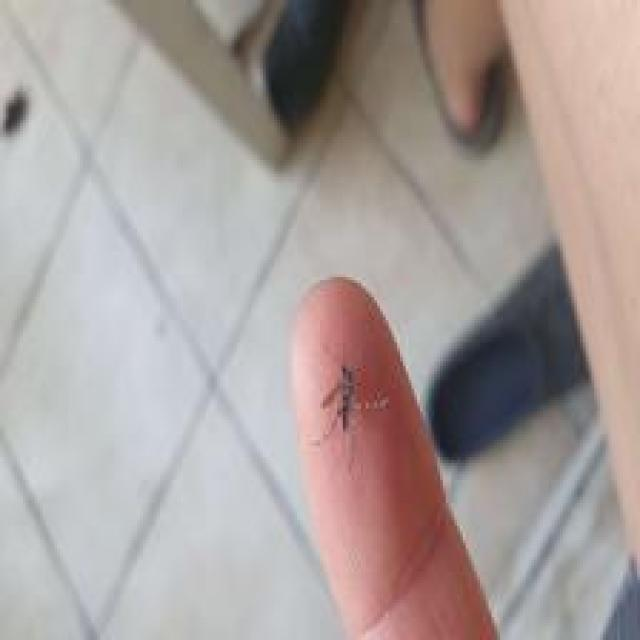Aedes albopictus: (320, 363, 360, 434)
